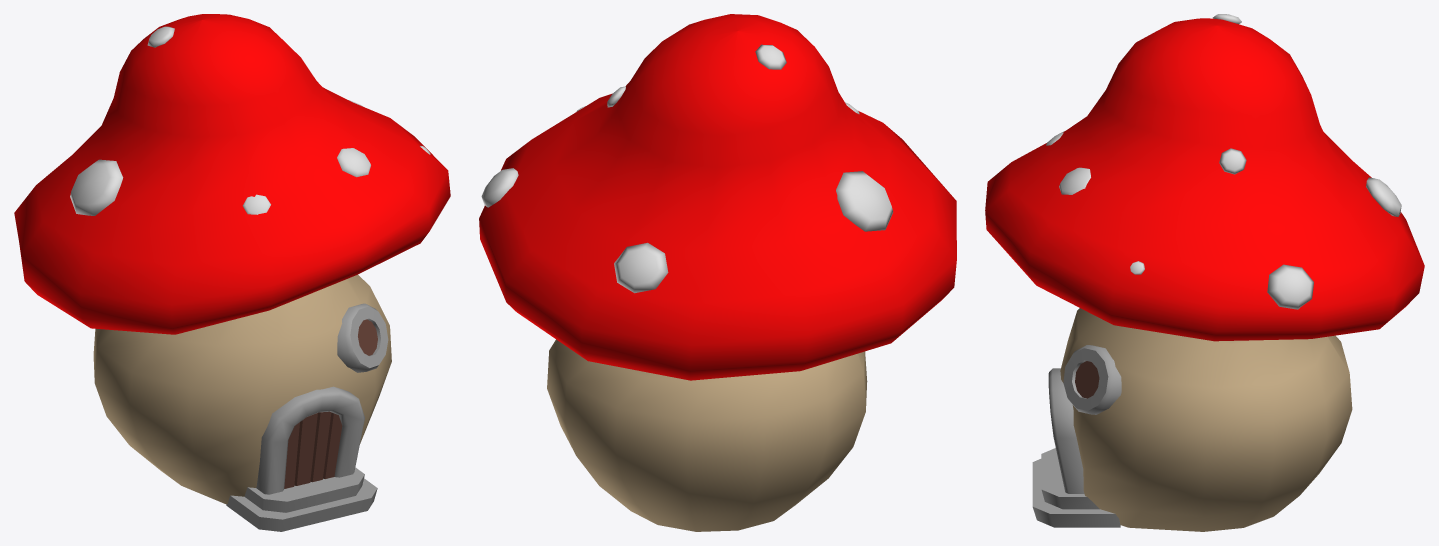
File: asset.glb
3 views of the same model, side by side, from view 1: azimuth 30°, elevation 25°; view 2: azimuth 150°, elevation 25°; view 3: azimuth 270°, elevation 25° (orthographic). The views are drawn at different scales.
Parts seen in each view (by area): view 1: Line002_Rouge_0, Line001, Box002, Plane001, Circle001, Sphere005, Sphere007, Plane002; view 2: Line002_Rouge_0, Line001, Sphere005, Sphere006, Sphere008, Sphere004; view 3: Line002_Rouge_0, Line001, Box002, Circle001, Sphere008, Sphere006, Plane002, Sphere007, Sphere002.
Boxes of the visible parts, box(x1,y1,x2,y2) form: Line002_Rouge_0: box(14, 14, 450, 334); Line001: box(93, 274, 391, 503); Box002: box(226, 386, 377, 531); Plane001: box(284, 411, 342, 488); Circle001: box(337, 303, 388, 372); Sphere005: box(70, 159, 123, 215); Sphere007: box(337, 148, 370, 177); Plane002: box(358, 319, 377, 355); Line002_Rouge_0: box(479, 14, 956, 380); Line001: box(547, 339, 867, 531); Sphere005: box(836, 171, 893, 231); Sphere006: box(614, 242, 668, 293); Sphere008: box(481, 168, 518, 207); Sphere004: box(755, 44, 786, 69); Line002_Rouge_0: box(985, 18, 1424, 341); Line001: box(1060, 308, 1352, 531); Box002: box(1032, 368, 1120, 527); Circle001: box(1063, 345, 1121, 414); Sphere008: box(1267, 264, 1313, 309); Sphere006: box(1366, 177, 1401, 216); Plane002: box(1075, 361, 1099, 398); Sphere007: box(1059, 167, 1090, 194); Sphere002: box(1219, 148, 1246, 174).
Bounding box in the file's own units: 136 × 151 × 132.
